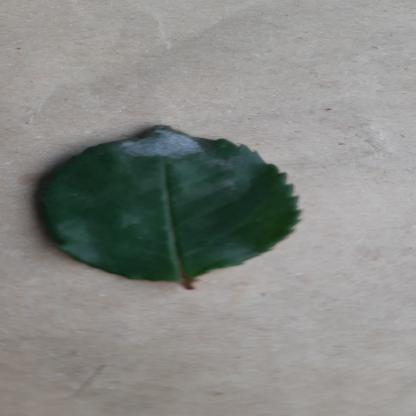powdery-mildew: (34, 124, 308, 282)
